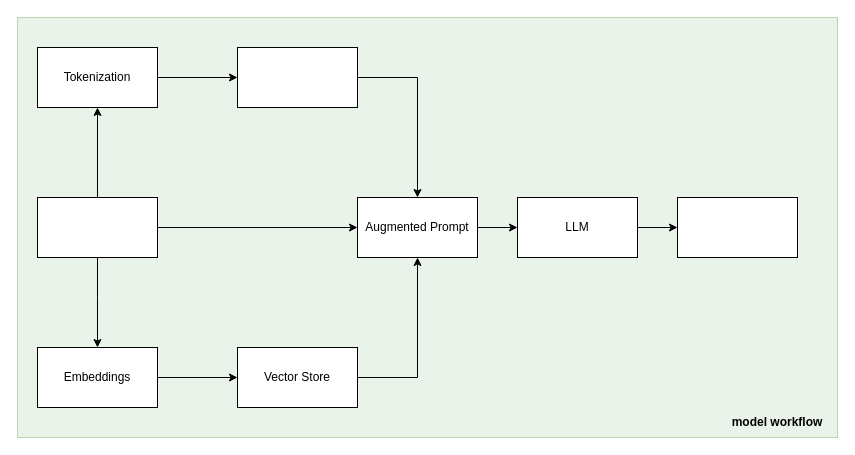
This 855x455 diagram has some shape labels left out. Here are the shapes that lost their labels. From the top down, the centre of each, then its label:
point (297, 77): BM25 Retrieval
point (97, 227): Query
point (737, 227): Output (Answer)
